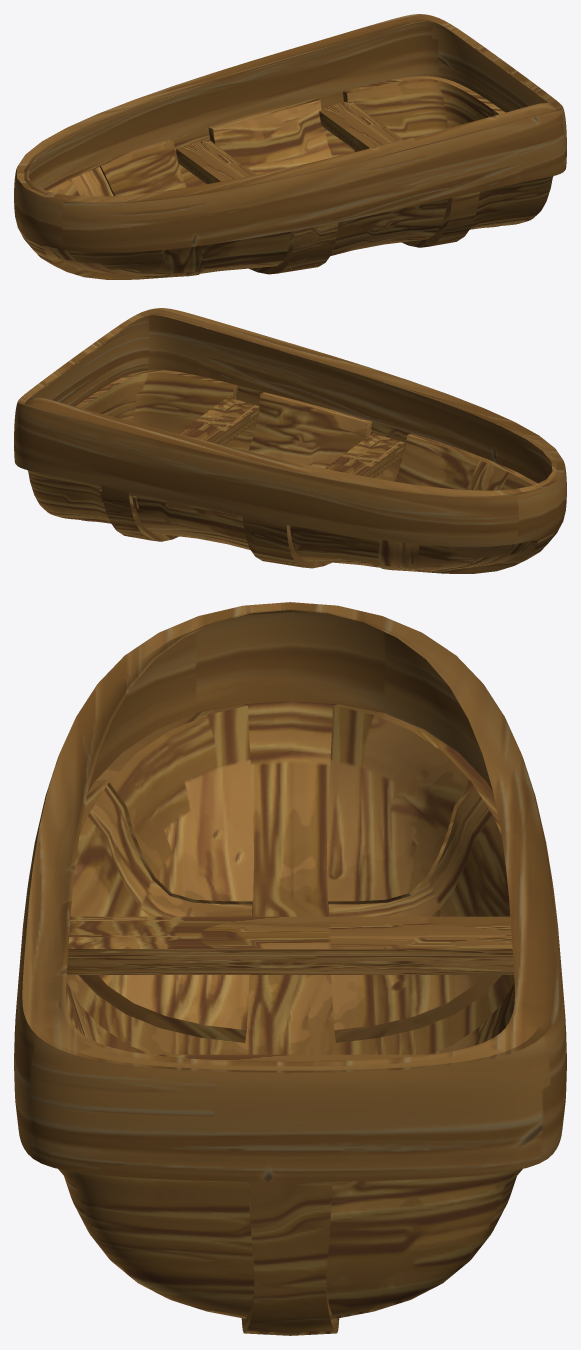
File: BFinal.fbx
3 views of the same model, one above another, from view 1: azimuth 30°, elevation 25°; view 2: azimuth 150°, elevation 25°; view 3: azimuth 270°, elevation 25° (orthographic). The views are drawn at different scales.
Visible parts, largest first — view 1: Cube.002; view 2: Cube.002; view 3: Cube.002.
Boxes of the visible parts, left/top/right/bottom form: Cube.002: left=14, top=14, right=566, bottom=279; Cube.002: left=14, top=308, right=566, bottom=573; Cube.002: left=14, top=602, right=566, bottom=1335.
Bounding box in the file's own units: 576 × 175 × 282.
